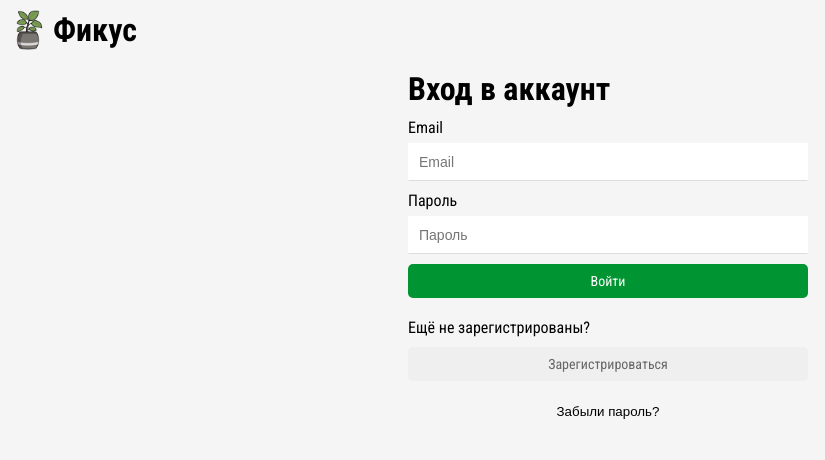
Test: clears the old error when changing modes and does not show raw error codes
Type "plant@example.com" into the field labelled "Email" at [608, 162], box [408,143,808,181]
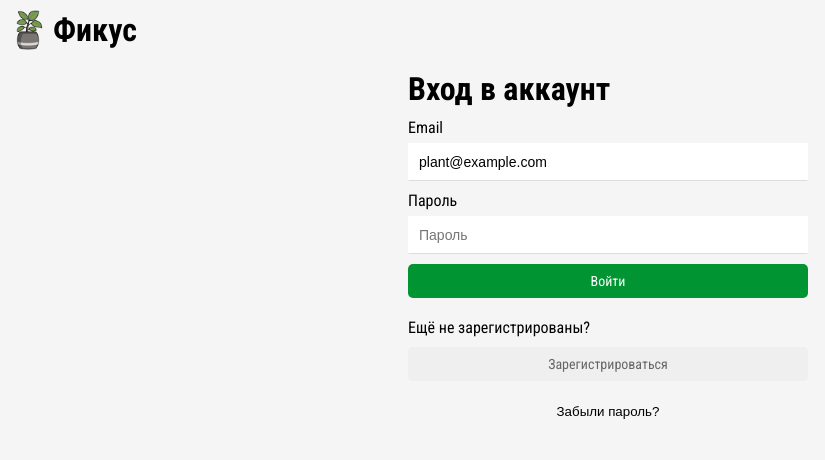
Type "plant-password" into the password field labelled "Пароль" at [608, 235], box [408,216,808,254]
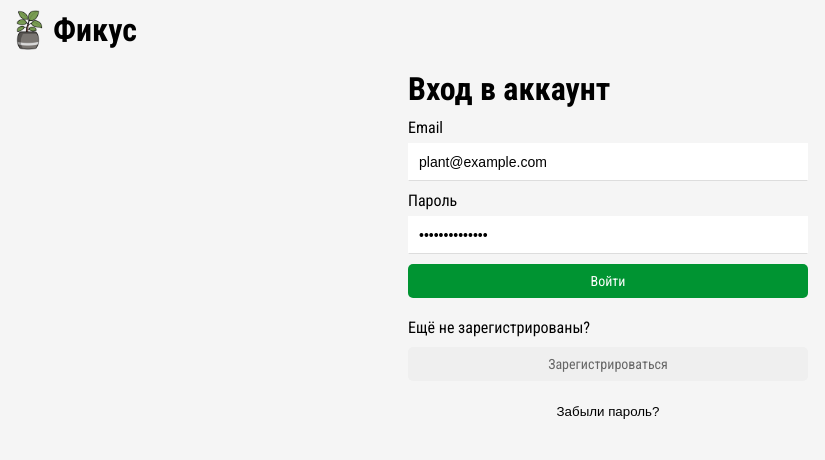
Submit the form "Вход в аккаунт", box [408,70,808,381]
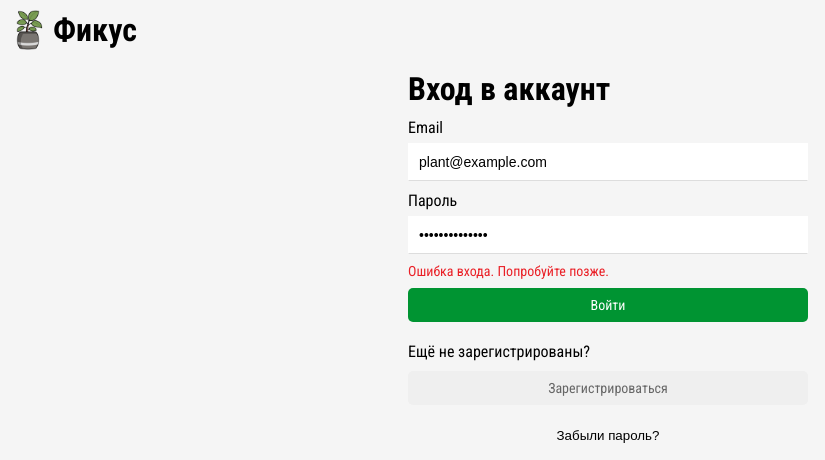
Expected: the message does not show "auth/internal-error", [408,263,609,279]
Result: the message reads "Ошибка входа. Попробуйте позже." at [408,263,609,279]
Click the button "Зарегистрироваться" at [608, 388], box [408,371,808,405]
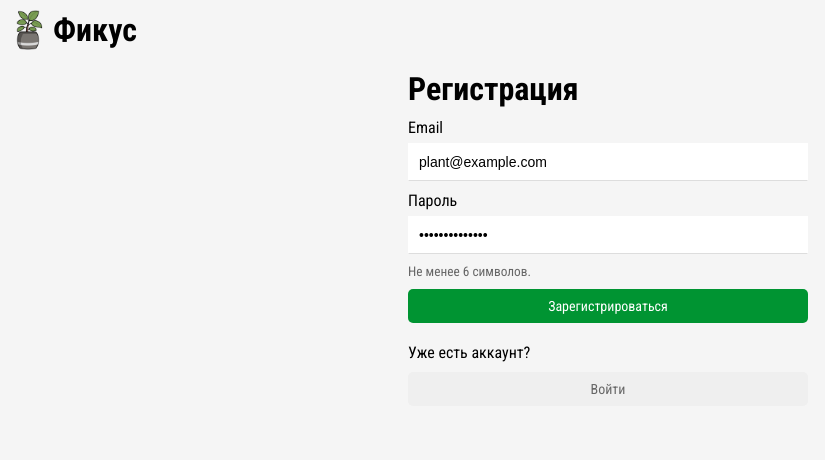
Result: the message "Ошибка входа. Попробуйте позже." is gone
